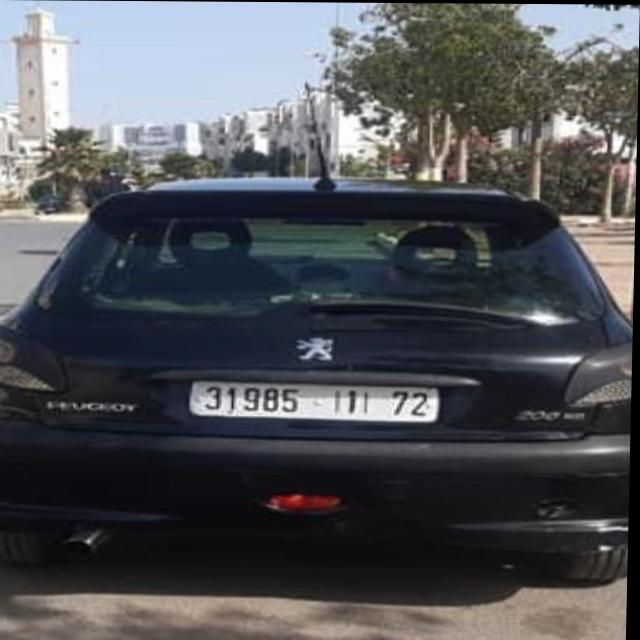License-Plate: (192, 380, 441, 422)
